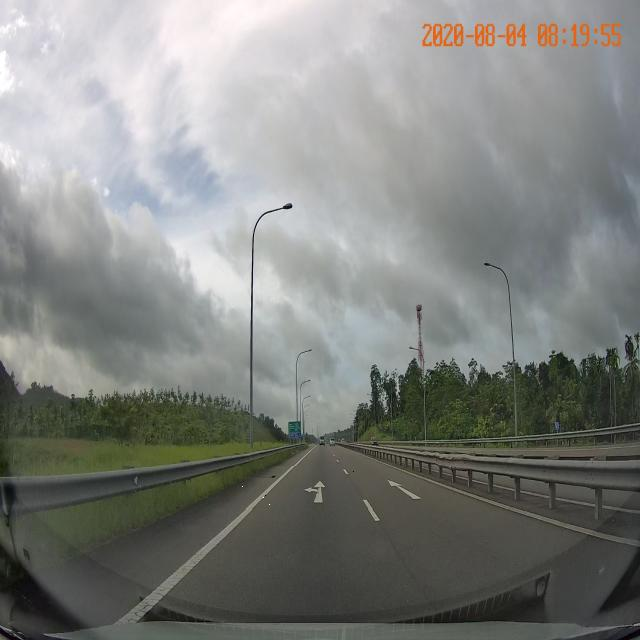forward_lft: (237, 467, 379, 509)
